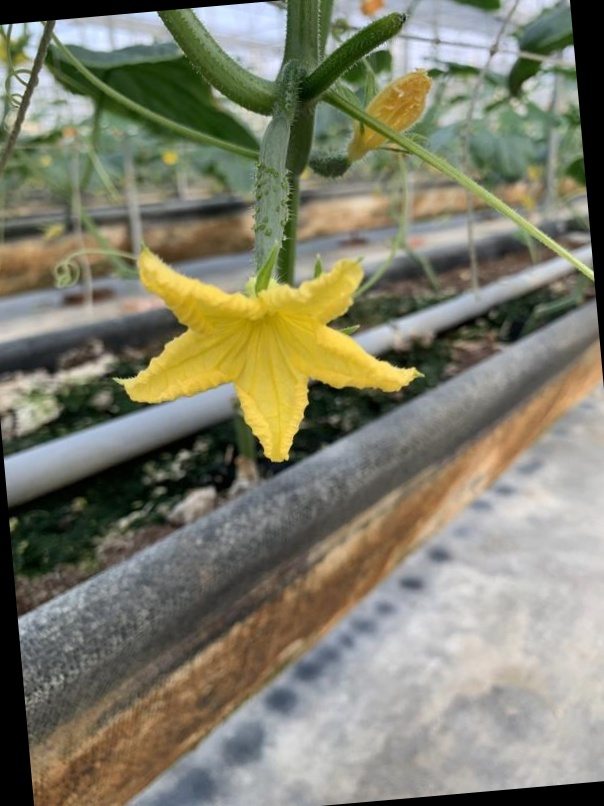flowering: (104, 95, 420, 474)
